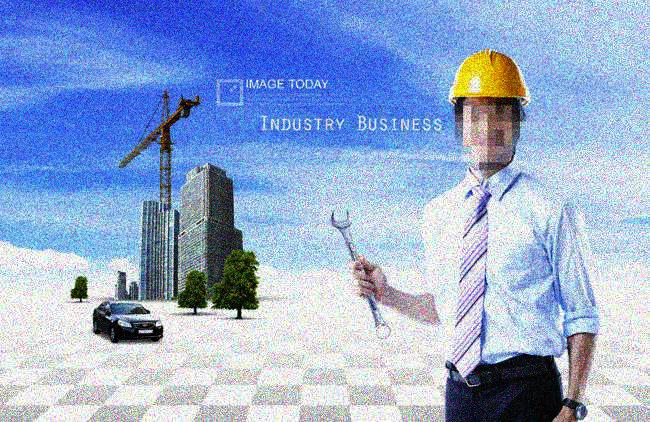helmet: (446, 48, 532, 166)
